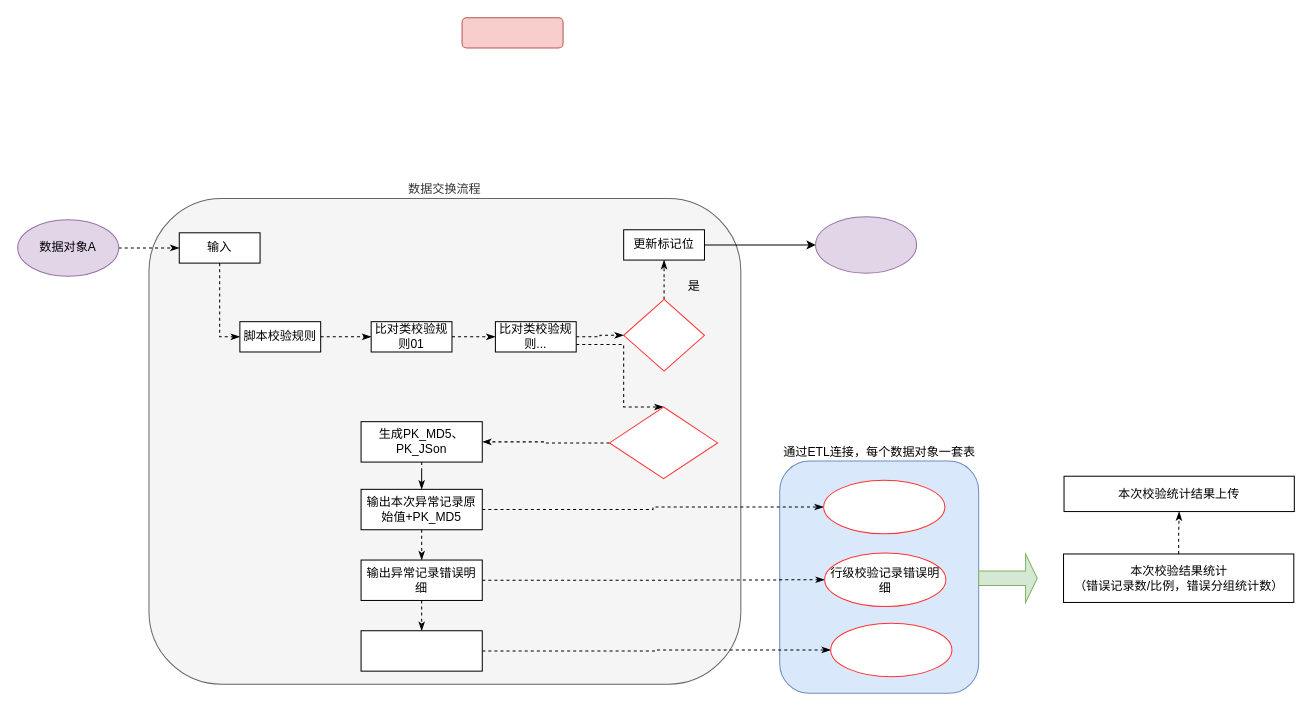
Some shapes in this 1312 by 711 pixel diagram are drawn without their labels. Here are the shapes that lost their labels. From the top down, the centre of each, then its label:
the point at 512,32: 行级检查规则
the point at 866,244: 数据对象 A
the point at 663,334: 是否在探查对象上作异常记录标记
the point at 663,442: 记录是否存在异常（_errorFlag>0)
the point at 884,506: 行级校验错误记录日志表
the point at 421,650: 插入更新本次数据对象的错误记录总表
the point at 891,649: 行级校验错误记录总表
